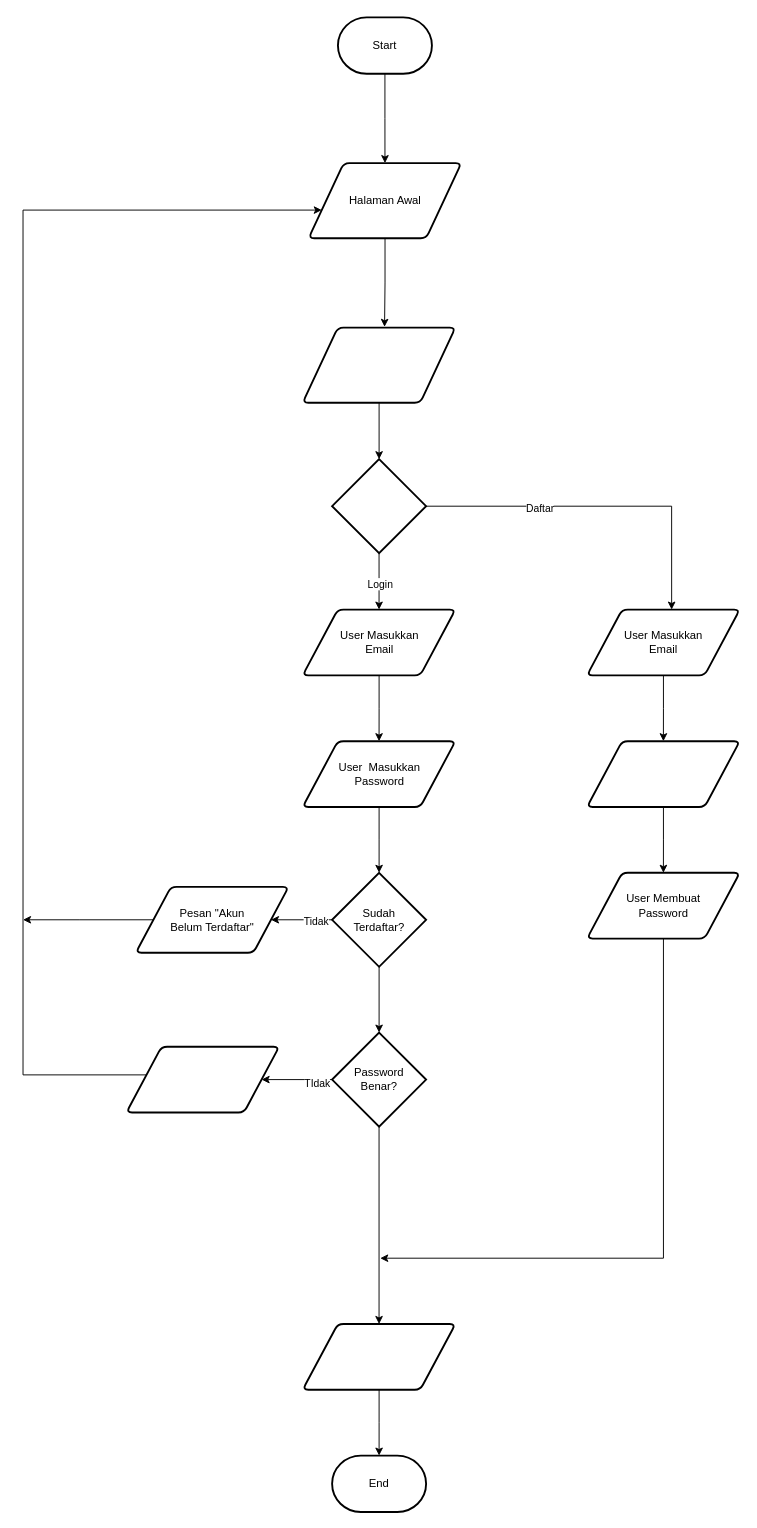
Image size: 757x1528. Some labels were removed from this diagram. The centre of each missing label's shape, as x and y in pixels:
Menampilkan Halaman Utama: point 378,1356
Pesan "Pasword salah": point 202,1079
User Masukkan Username: point 663,773
User Memilih Login: point 379,506
User Mmilih Login/Daftar: point 378,364
